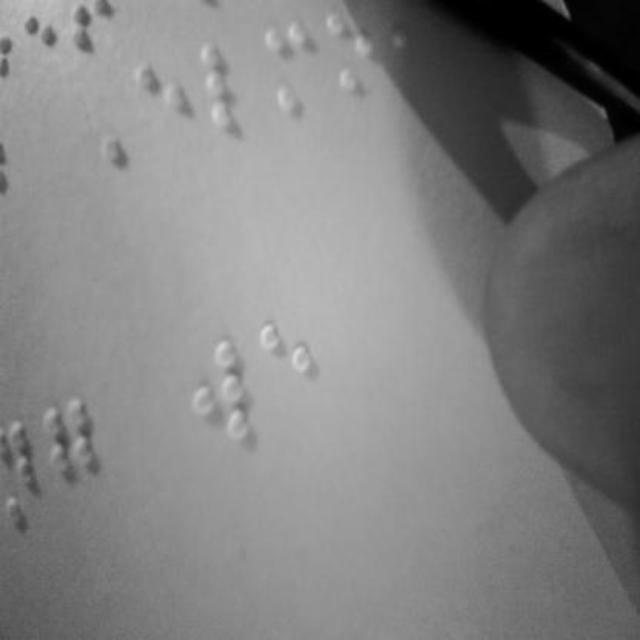braiile: (186, 331, 256, 454), (194, 20, 262, 144), (262, 304, 328, 431), (42, 392, 108, 518), (130, 52, 198, 164), (262, 10, 322, 126), (0, 394, 48, 534)
